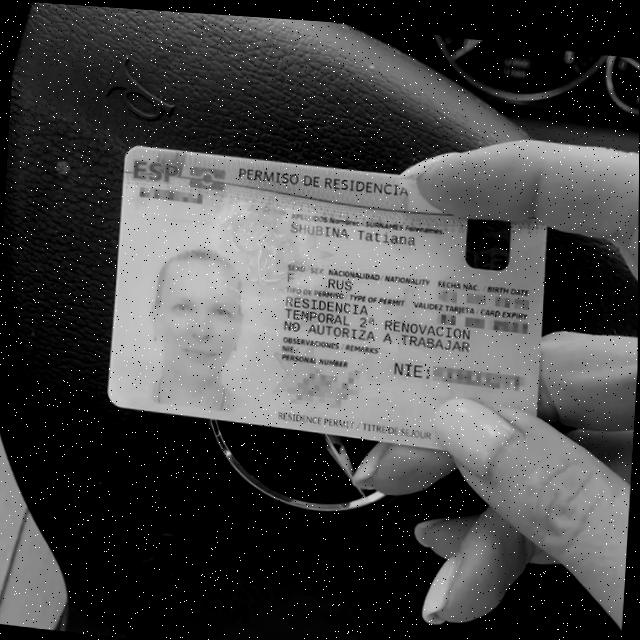card: (109, 147, 546, 448)
